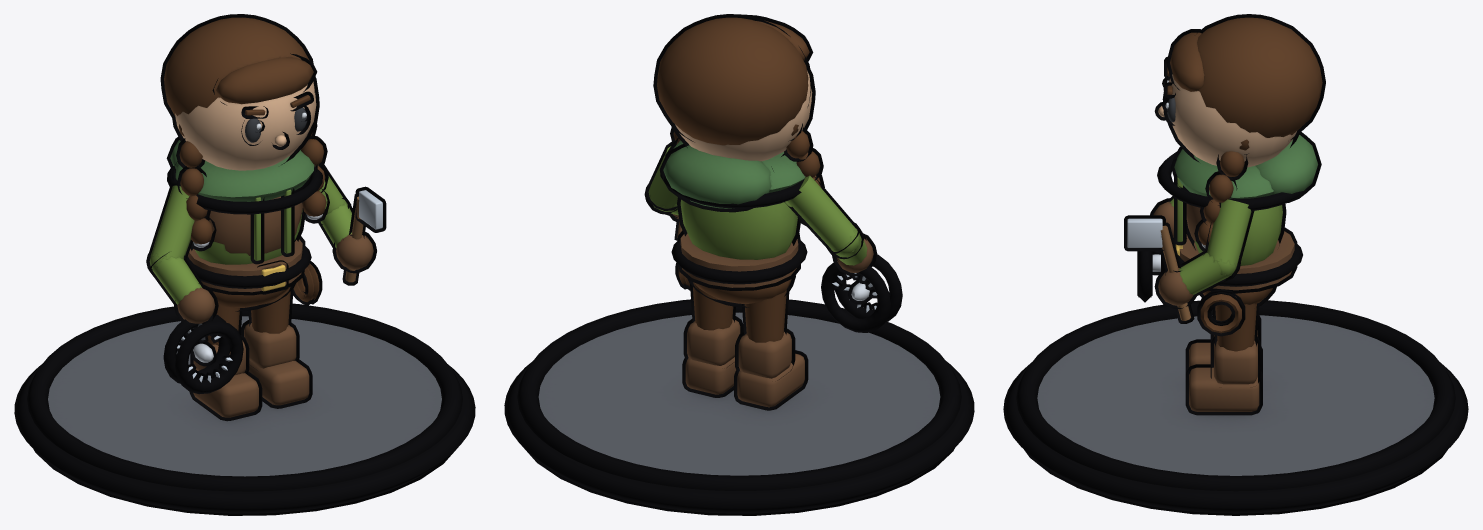
File: trapper_s2.fbx
3 renders of one model, left to right at view 1: azimuth 30°, elevation 25°; view 2: azimuth 150°, elevation 25°; view 3: azimuth 270°, elevation 25°, orthographic.
Visible parts, largest first — view 1: trapper_s2; view 2: trapper_s2; view 3: trapper_s2.
Boxes of the visible parts, x1,y1,x2,y2 form: trapper_s2: (14, 14, 475, 515); trapper_s2: (504, 14, 974, 515); trapper_s2: (1003, 14, 1468, 515).
Size of the model in its own units: 1.58 by 1.5 by 1.58.
Materials: 2 (1 with a texture image).
